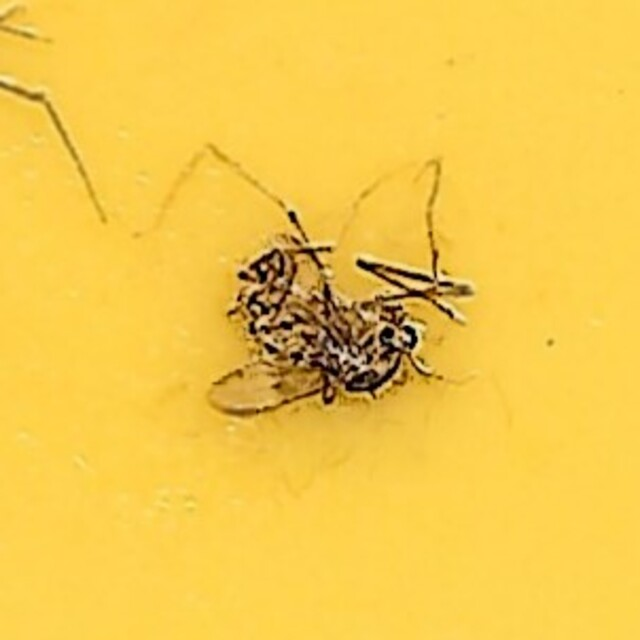Nematocera: (212, 218, 428, 422)
